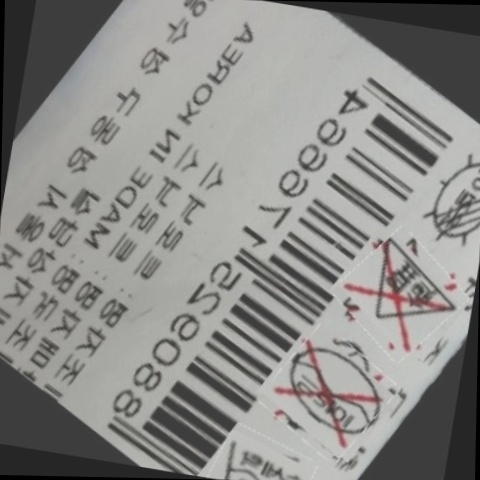DN_dry_clean: (278, 335, 390, 448)
hand_wash: (223, 433, 315, 480)
line_dry_in_shade: (423, 148, 480, 247)
non_chlorine_bleach: (354, 237, 464, 346)
